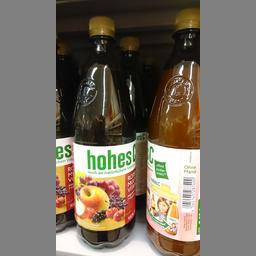juice: (73, 14, 135, 248), (144, 7, 198, 254)
